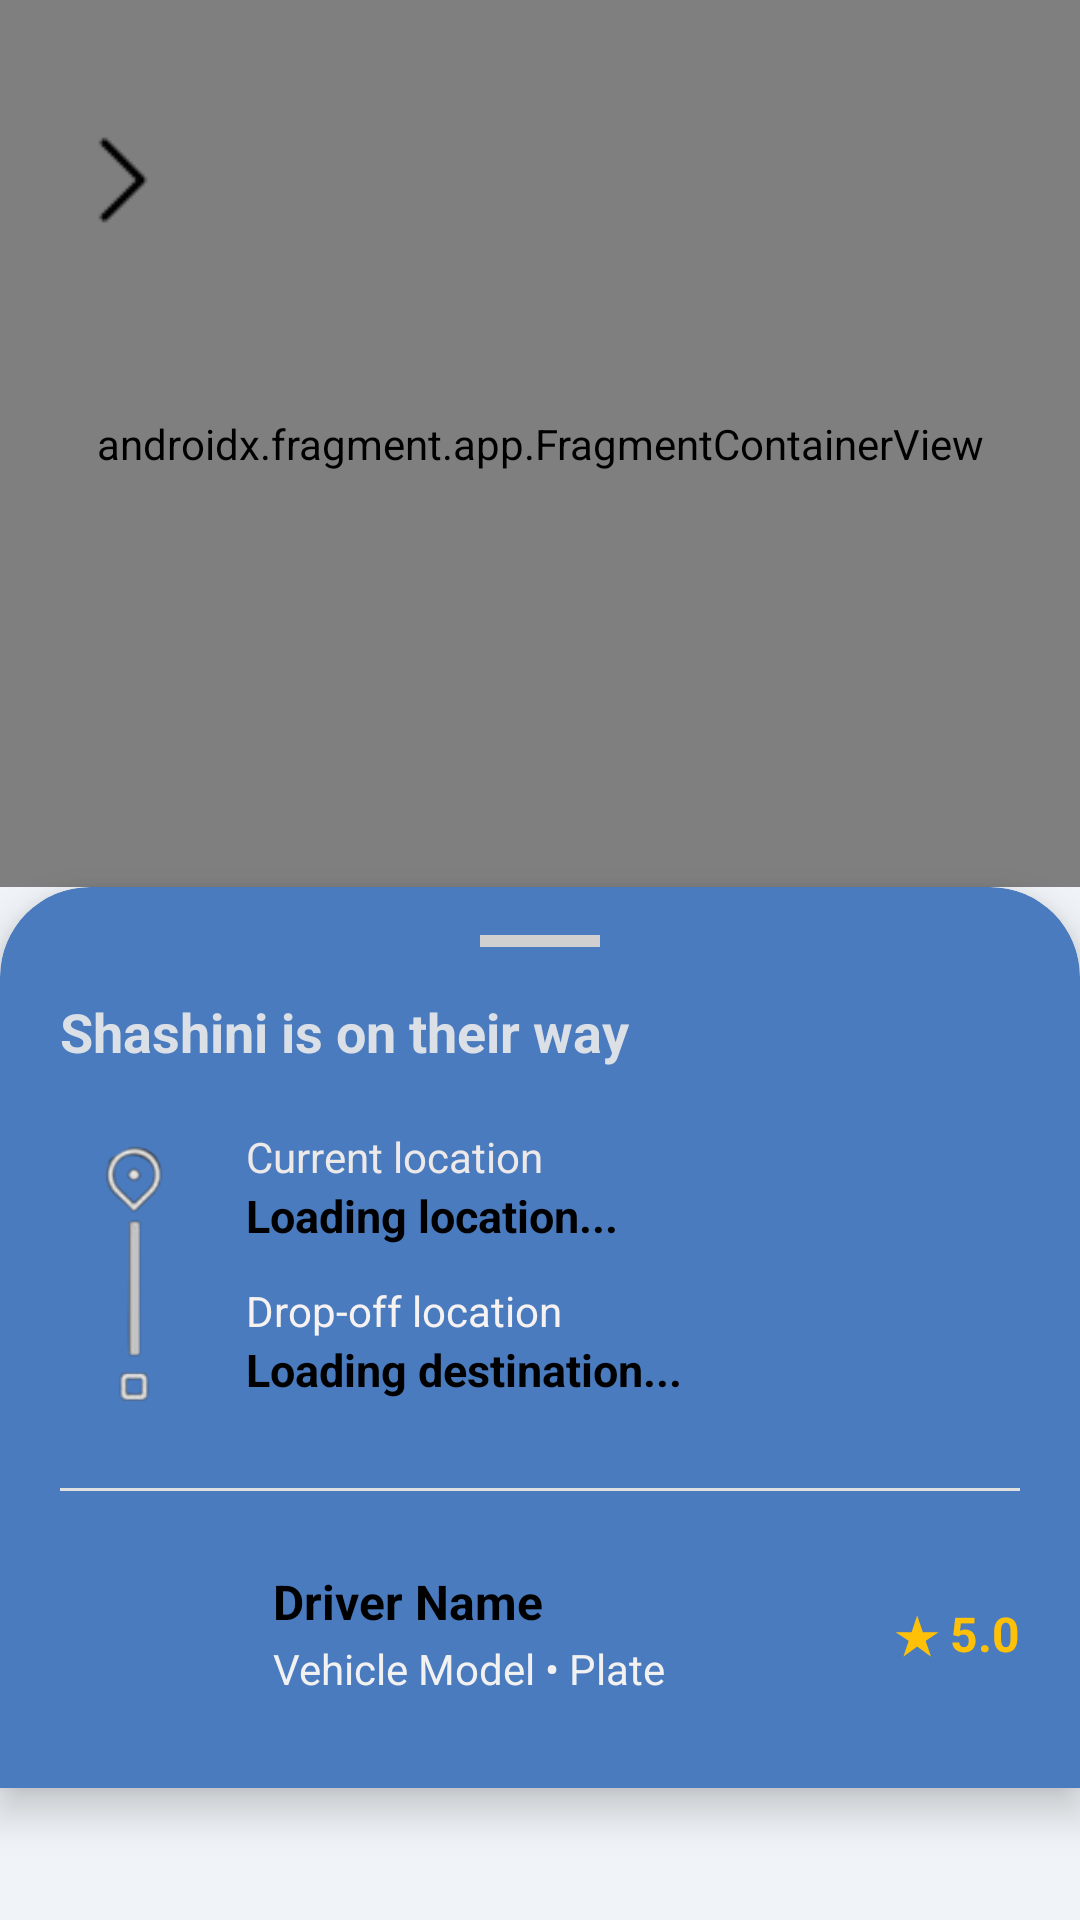

Icon bounding boxes for this 1080w x 1920h phone screenshot, format (x1, y1, x2, y2):
arrow: (99, 138, 146, 222)
